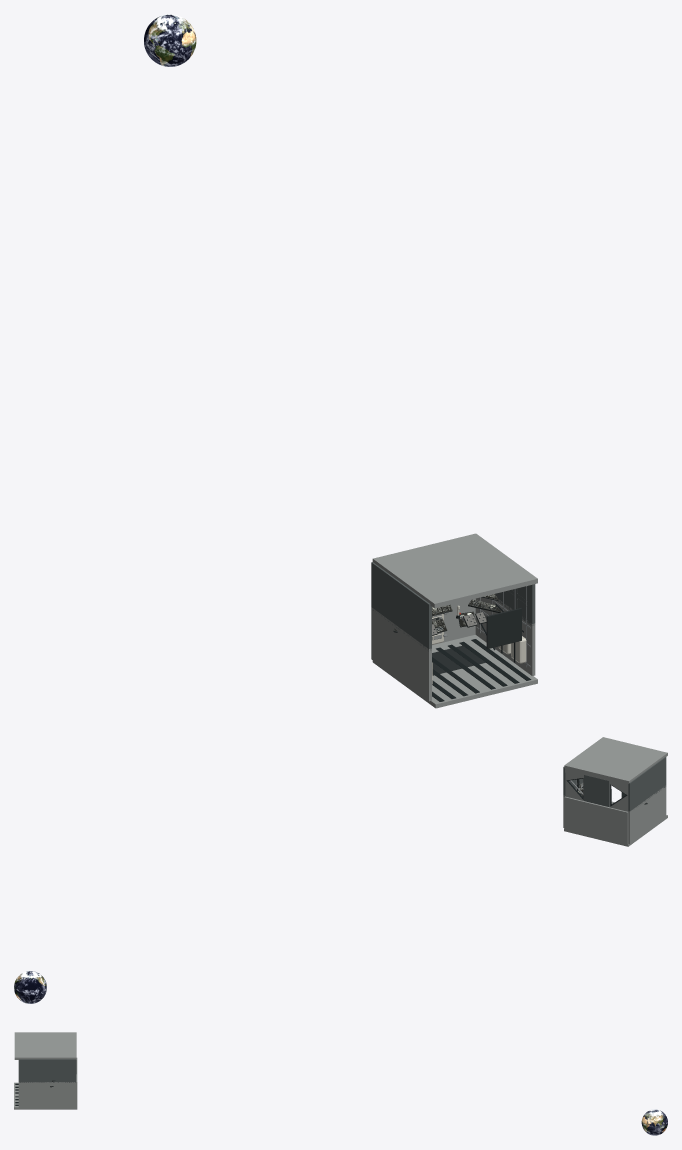
Rendered from aquarius-cabin-585-verified.glb.
The picture shows the model from 3 angles, top to bottom: view 1: azimuth 30°, elevation 25°; view 2: azimuth 150°, elevation 25°; view 3: azimuth 270°, elevation 25°; orthographic projection. The views are drawn at different scales.
Parts seen in each view (by area): view 1: Roof, lower_sidewall, Floor, upper_sidewall, Earth_preview, Panel_ECS_backing, lower_sidewall.001; view 2: Roof, Forward_lower_wall, lower_sidewall, upper_sidewall, Earth_preview, Instrument_support_wall; view 3: Roof, lower_sidewall.001, upper_sidewall.001, Earth_preview, Floor.
Boxes of the visible parts, <box> form: Roof: <box>372,533,537,608</box>; lower_sidewall: <box>371,607,431,701</box>; Floor: <box>372,634,537,708</box>; upper_sidewall: <box>371,562,431,651</box>; Earth_preview: <box>144,14,196,66</box>; Panel_ECS_backing: <box>486,608,521,648</box>; lower_sidewall.001: <box>475,597,535,675</box>; Roof: <box>564,737,667,783</box>; Forward_lower_wall: <box>564,796,628,844</box>; lower_sidewall: <box>628,785,666,843</box>; upper_sidewall: <box>628,757,666,811</box>; Earth_preview: <box>14,971,46,1003</box>; Instrument_support_wall: <box>584,775,609,806</box>; Roof: <box>14,1032,76,1059</box>; lower_sidewall.001: <box>18,1082,76,1107</box>; upper_sidewall.001: <box>18,1059,76,1082</box>; Earth_preview: <box>641,1109,667,1135</box>; Floor: <box>14,1082,77,1109</box>.
Size of the model in its own units: 9.2 by 2.86 by 25.87.
32 materials, 12 textured.
